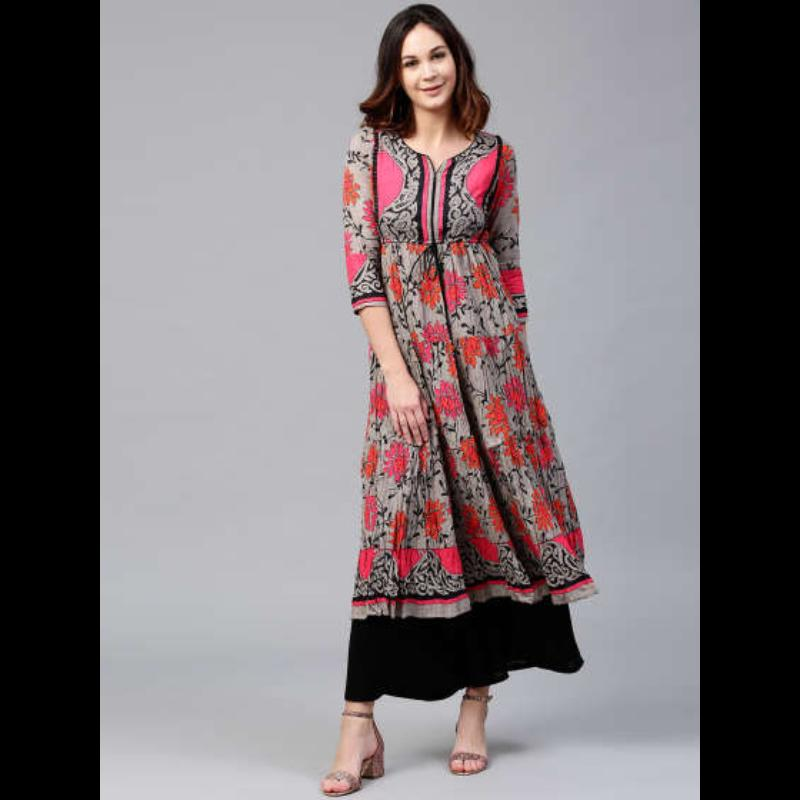Churidaar: (327, 118, 594, 682)
